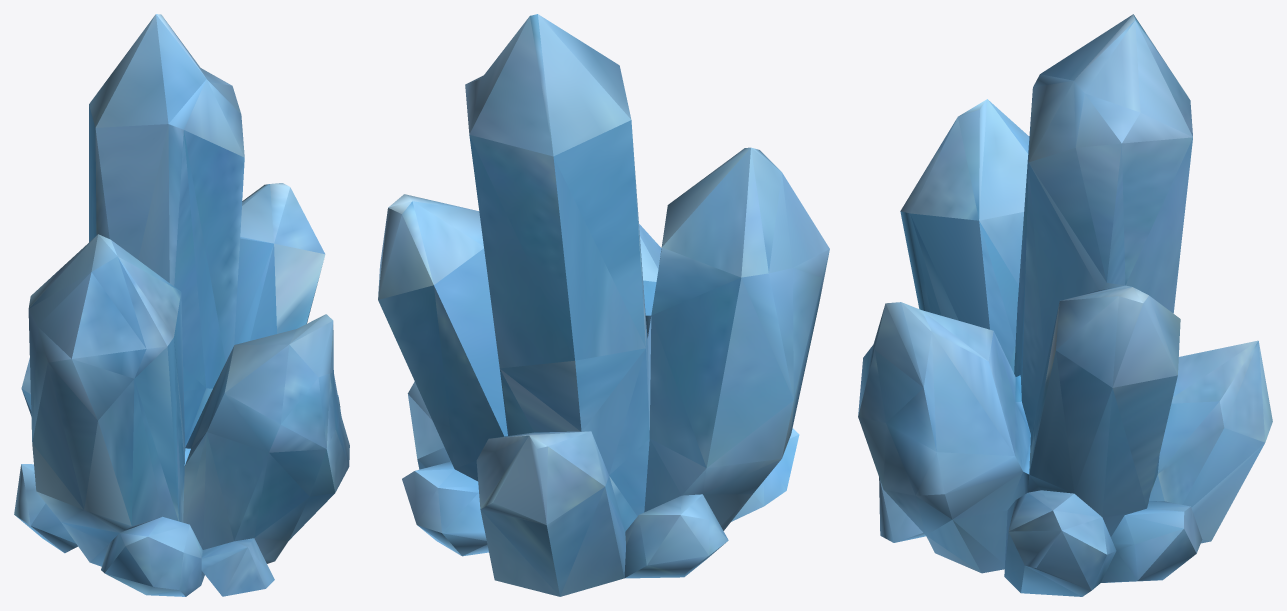
File: racimo_hielo_p.glb
The picture shows the model from 3 angles, left to right: view 1: azimuth 30°, elevation 25°; view 2: azimuth 150°, elevation 25°; view 3: azimuth 270°, elevation 25°; orthographic projection. The views are drawn at different scales.
Parts seen in each view (by area): view 1: racimo_hielo_p_malla; view 2: racimo_hielo_p_malla; view 3: racimo_hielo_p_malla.
Boxes of the visible parts, x1,y1,x2,y2 form: racimo_hielo_p_malla: (14, 14, 349, 596); racimo_hielo_p_malla: (378, 14, 829, 596); racimo_hielo_p_malla: (858, 14, 1272, 596).
Size of the model in its own units: 0.1222 by 0.1698 by 0.1212.
Materials: 1 (1 with a texture image).
